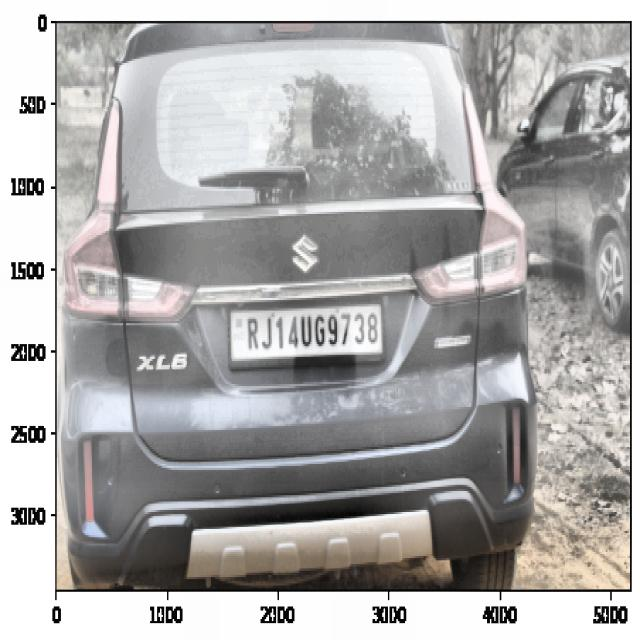license_plate: (237, 307, 382, 359)
